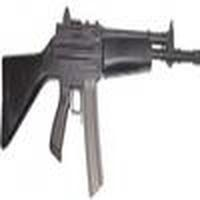gun: (3, 22, 197, 146)
